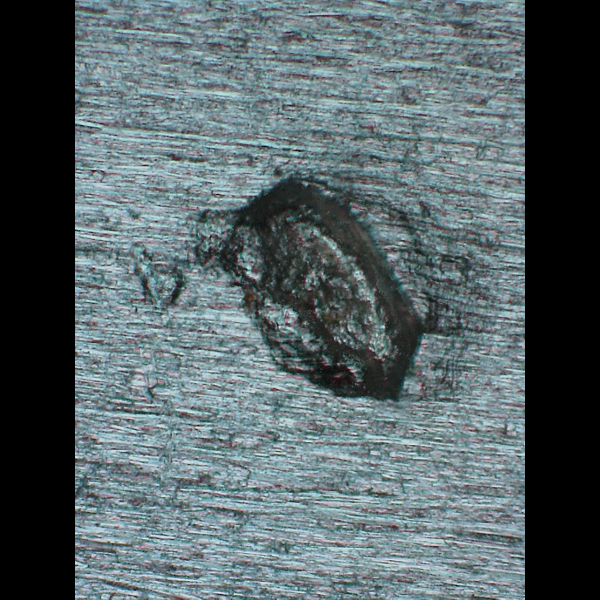d: (189, 164, 456, 413)
